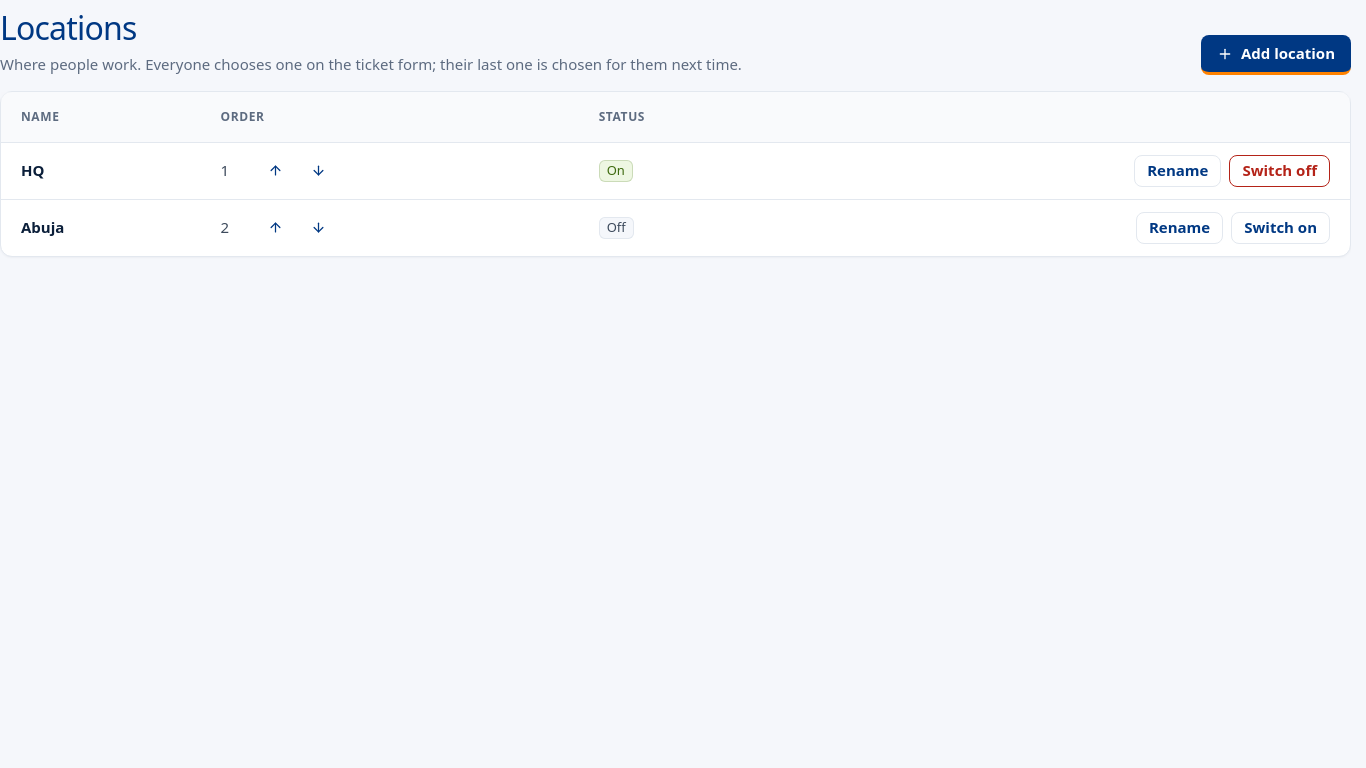
Test case: Locations › adds a location, reorders, and shows the API's refusal to switch off the last one as a toast
The width and height of the screenshot is (1366, 768).
Expected: the row with test id "location-HQ" shows "On", [607,161,625,179]
Expected: the row with test id "location-Abuja" shows "Off", [607,218,626,236]
Click the button "Add location": {"x": 1276, "y": 55} [1201,35,1351,75]
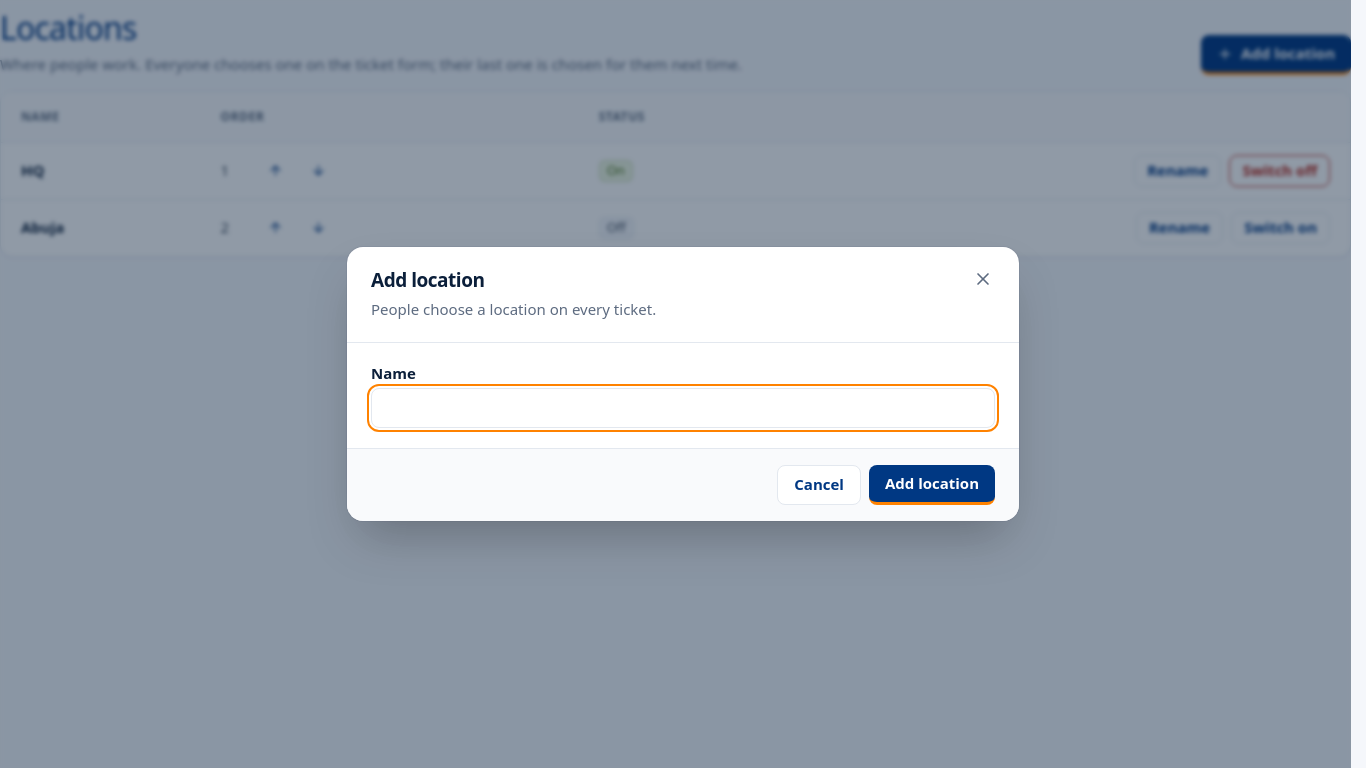
In the field labelled "Name": {"x": 683, "y": 408} [371,388,995,428], type "Port Harcourt"
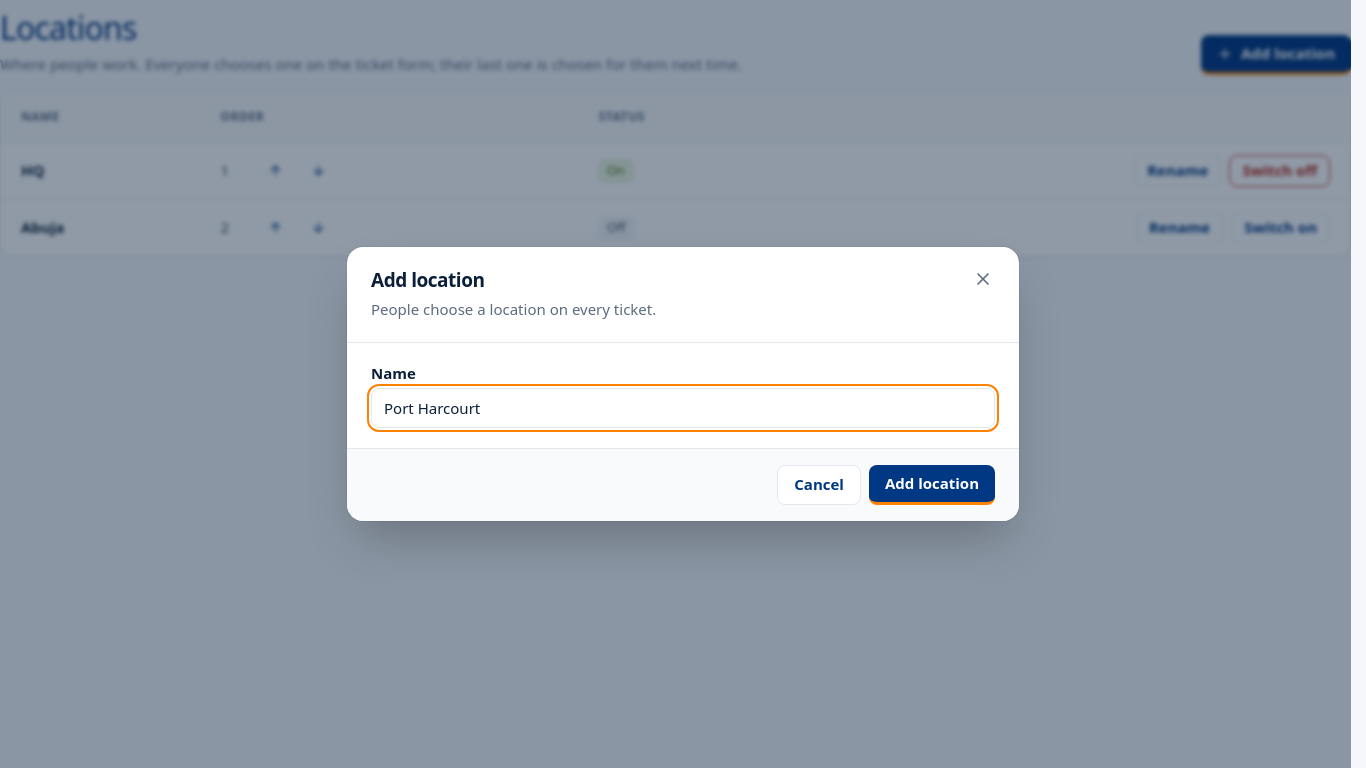
Click the button "Add location": {"x": 932, "y": 485} [869,465,995,505]
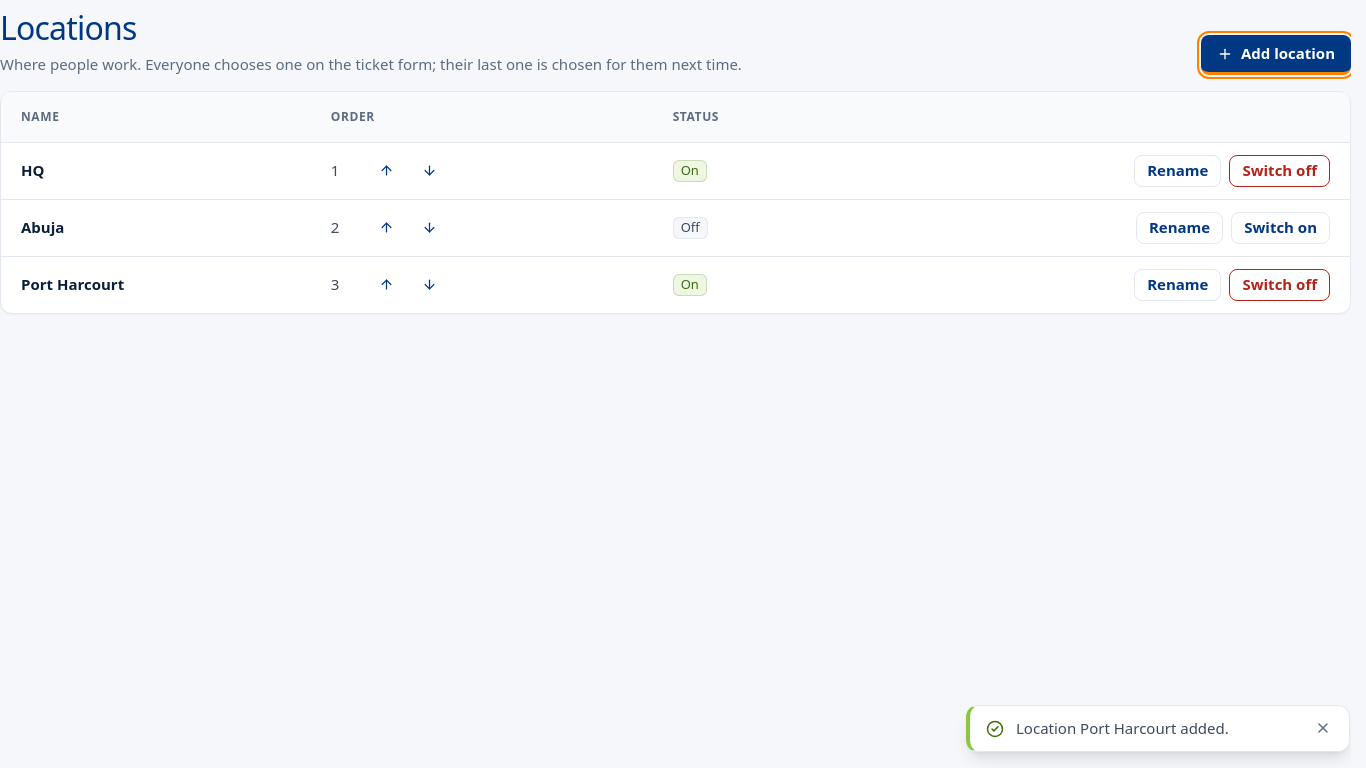
Expected: the text "Location Port Harcourt added." is shown, [1016,718,1229,738]
Expected: the row with test id "location-Port Harcourt" is shown, [1,256,1350,313]
Click the button named "Move Abuja up": {"x": 386, "y": 228} [367,212,406,244]
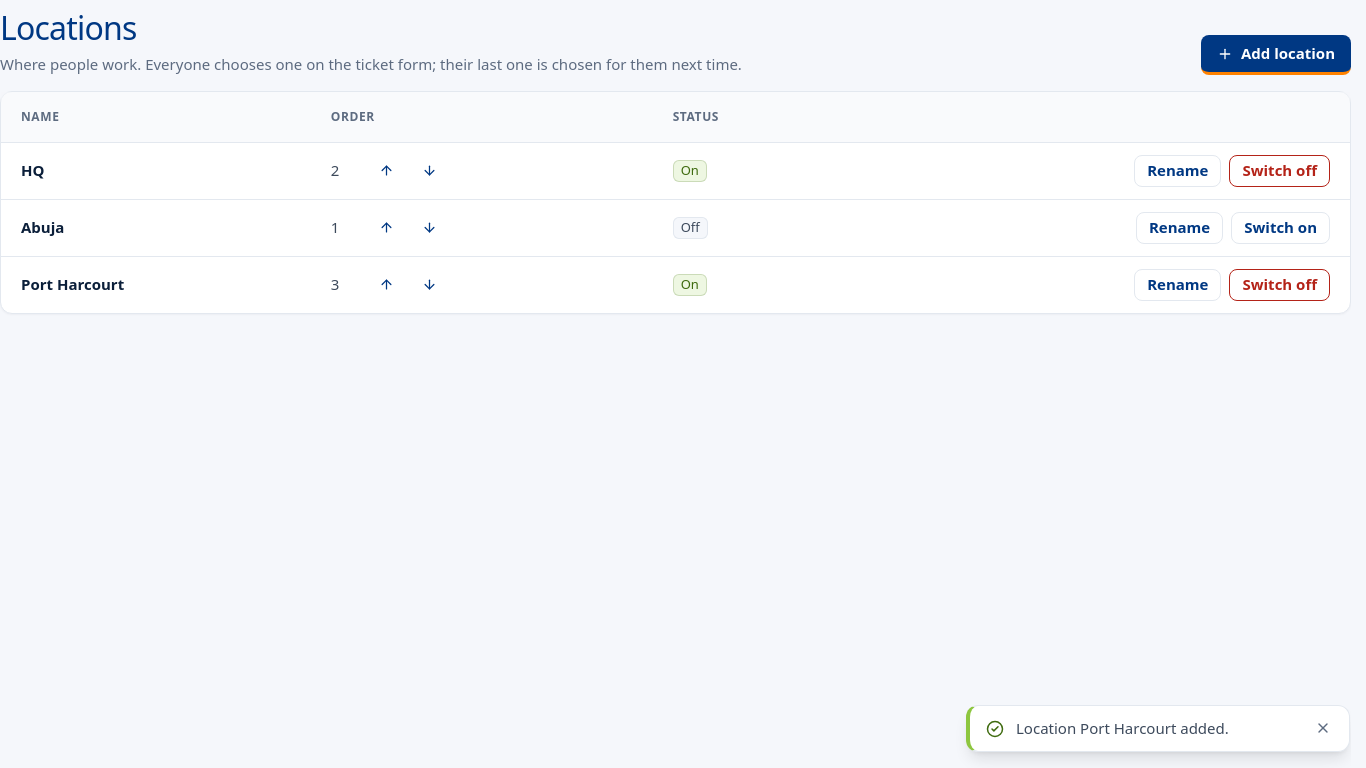
Click the button named "Switch off HQ": {"x": 1280, "y": 171} [1229,155,1330,187]
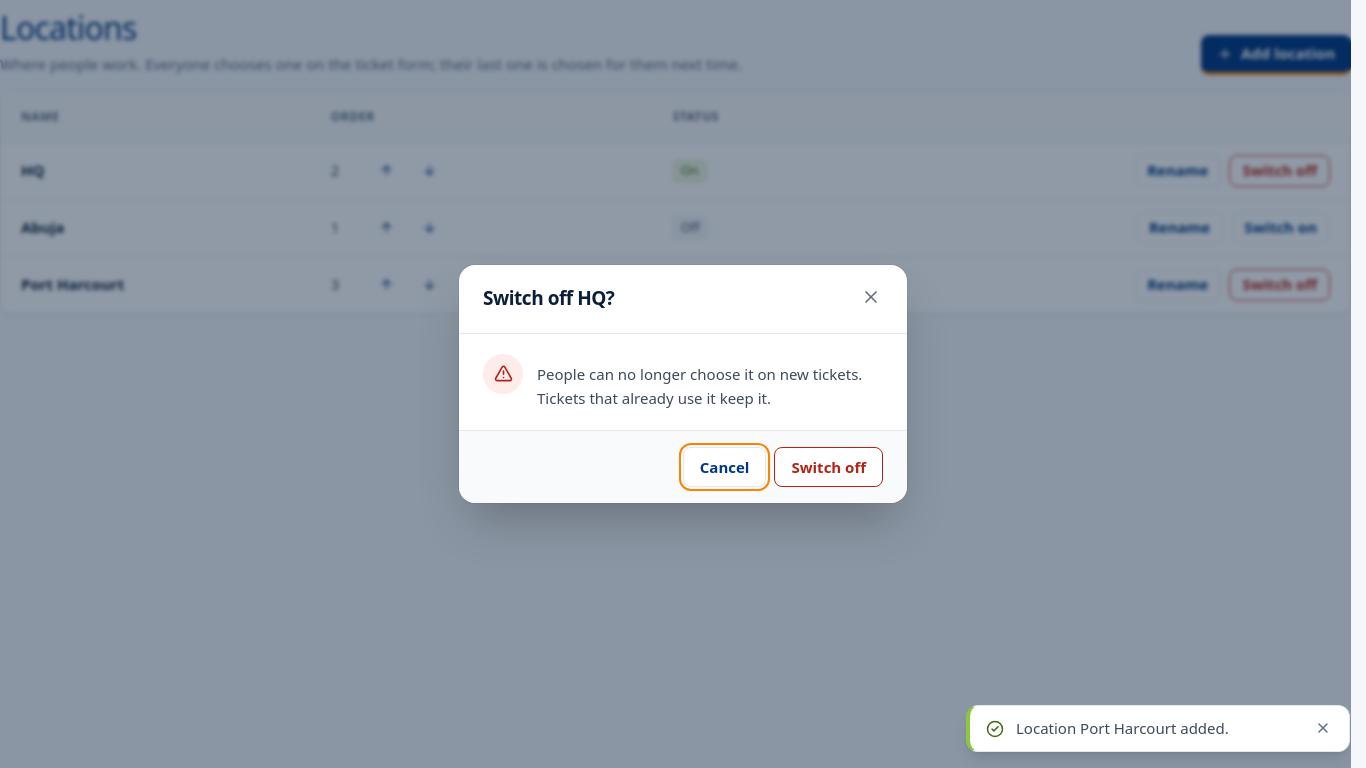
Click the button "Switch off": {"x": 829, "y": 467} [774,447,883,487]
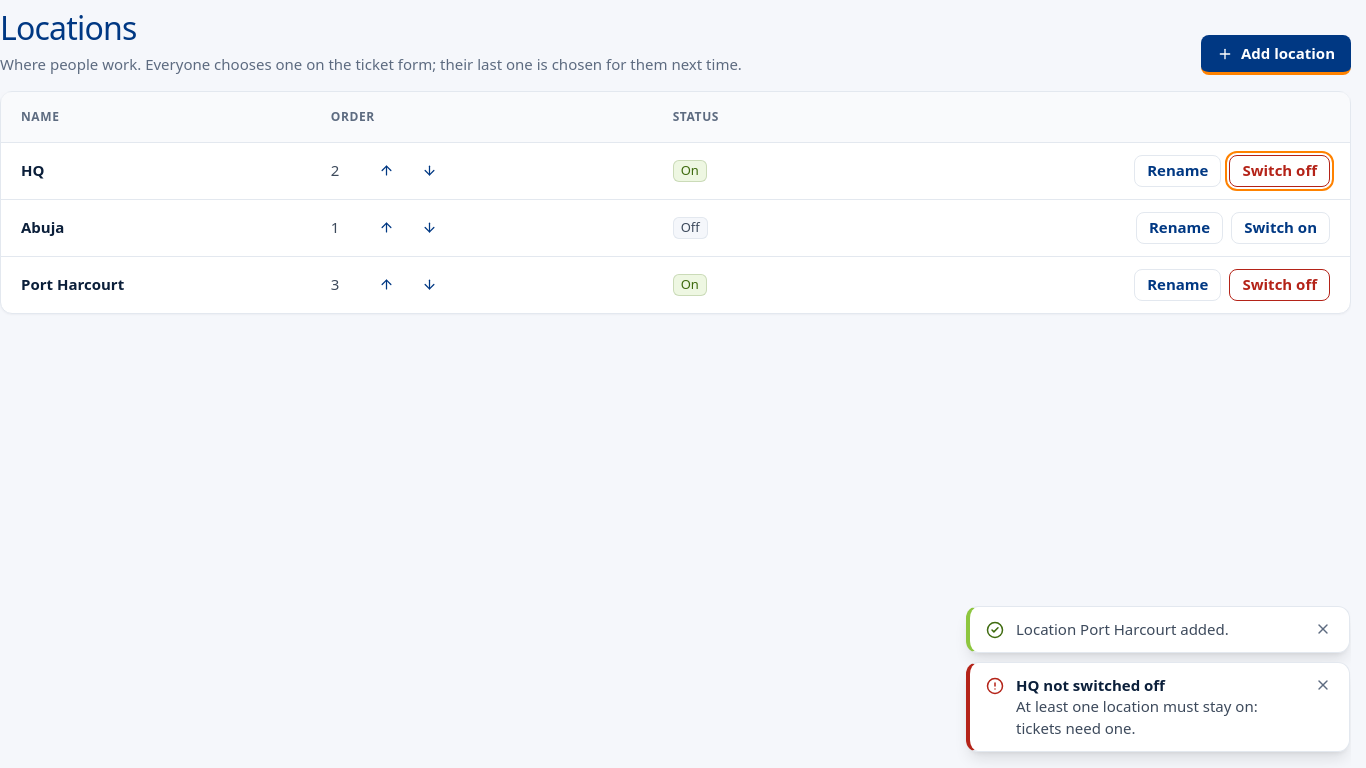
Expected: the row with test id "location-HQ" shows "On", [681,161,699,179]
Expected: the text "At least one location must stay on: tickets need one." is shown, [1016,696,1258,738]
